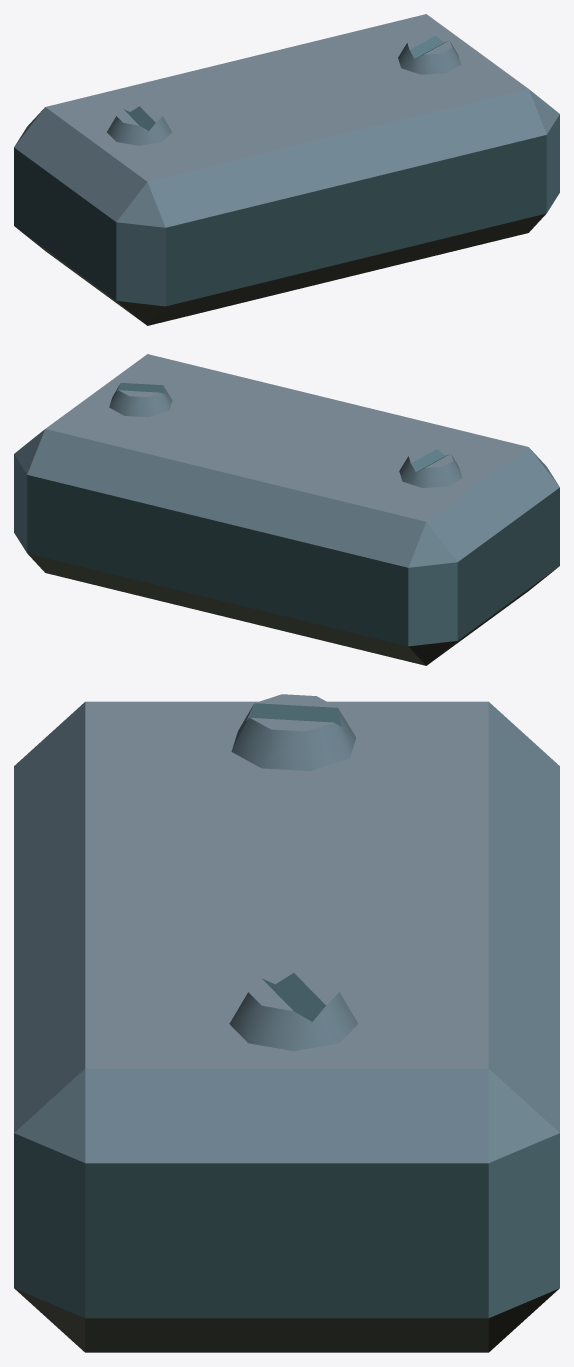
The model's file is m_kub_metal_floorBrick.FBX.
3 renders of one model, top to bottom at view 1: azimuth 30°, elevation 25°; view 2: azimuth 150°, elevation 25°; view 3: azimuth 270°, elevation 25°, orthographic. The views are drawn at different scales.
Visible parts, largest first — view 1: m_kub_metal_floorBrick; view 2: m_kub_metal_floorBrick; view 3: m_kub_metal_floorBrick.
Boxes of the visible parts, x1=… form: m_kub_metal_floorBrick: x1=14, y1=14, x2=559, y2=325; m_kub_metal_floorBrick: x1=14, y1=354, x2=559, y2=665; m_kub_metal_floorBrick: x1=14, y1=694, x2=559, y2=1352.
Size of the model in its own units: 2.18 by 0.7512 by 1.18.
